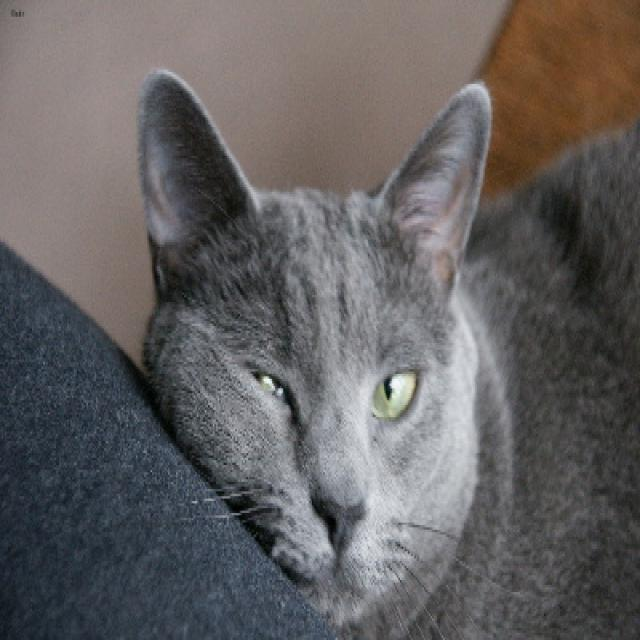cat: (136, 65, 488, 616)
